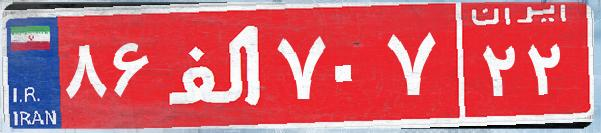0: (330, 28, 385, 110)
2: (475, 38, 525, 113), (525, 38, 570, 115)
6: (110, 28, 158, 105)
7: (385, 28, 445, 110), (273, 28, 330, 110)
8: (57, 26, 110, 107)
الف: (158, 15, 273, 115)
